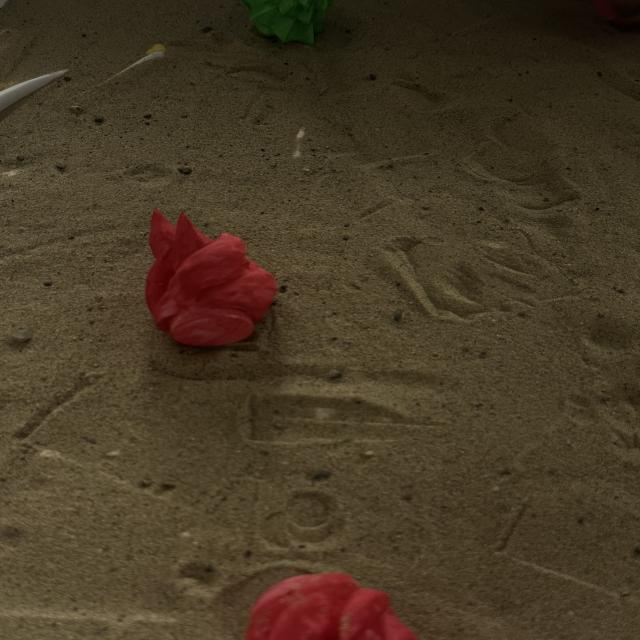fire: (141, 205, 280, 348), (248, 571, 426, 640)
tree: (239, 1, 334, 46)
